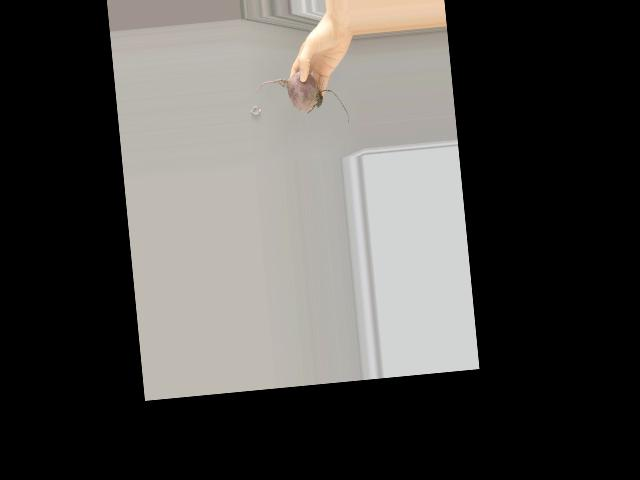beet: (254, 67, 349, 131)
